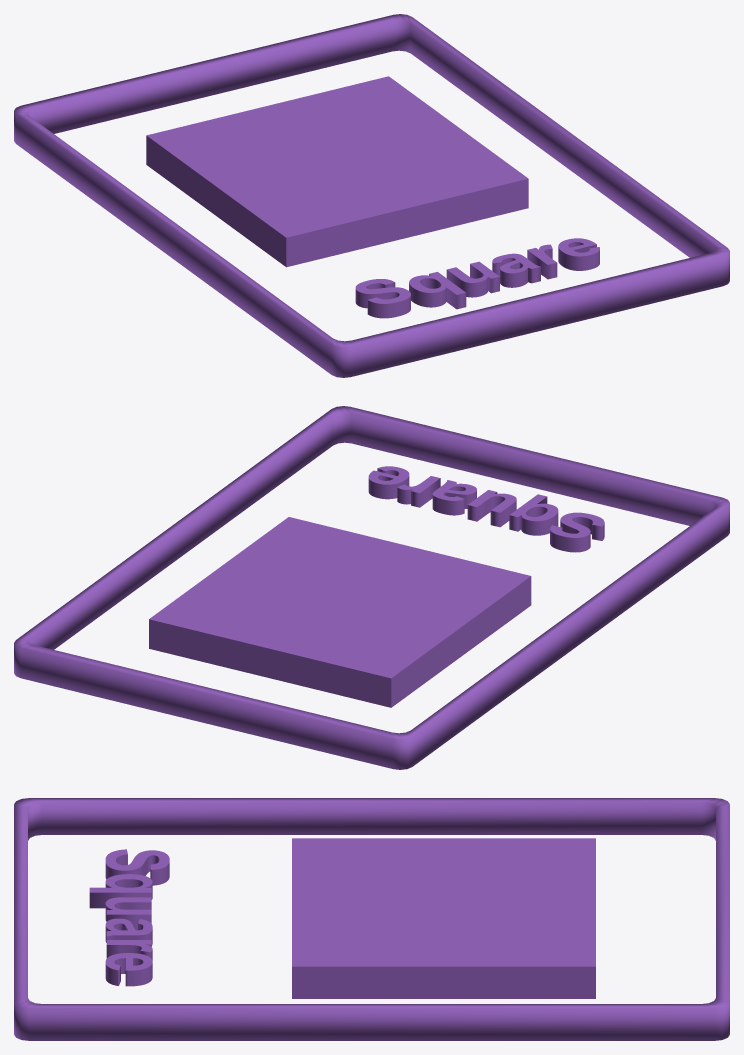
The model's file is shapeSquare.glb.
The picture shows the model from 3 angles, top to bottom: view 1: azimuth 30°, elevation 25°; view 2: azimuth 150°, elevation 25°; view 3: azimuth 270°, elevation 25°; orthographic projection. The views are drawn at different scales.
Visible parts, largest first — view 1: Plane; view 2: Plane; view 3: Plane.
Boxes of the visible parts, left/top/right/bottom form: Plane: left=14, top=14, right=729, bottom=377; Plane: left=14, top=406, right=729, bottom=769; Plane: left=14, top=798, right=729, bottom=1040.
Size of the model in its own units: 0.9357 by 0.068 by 1.35.
